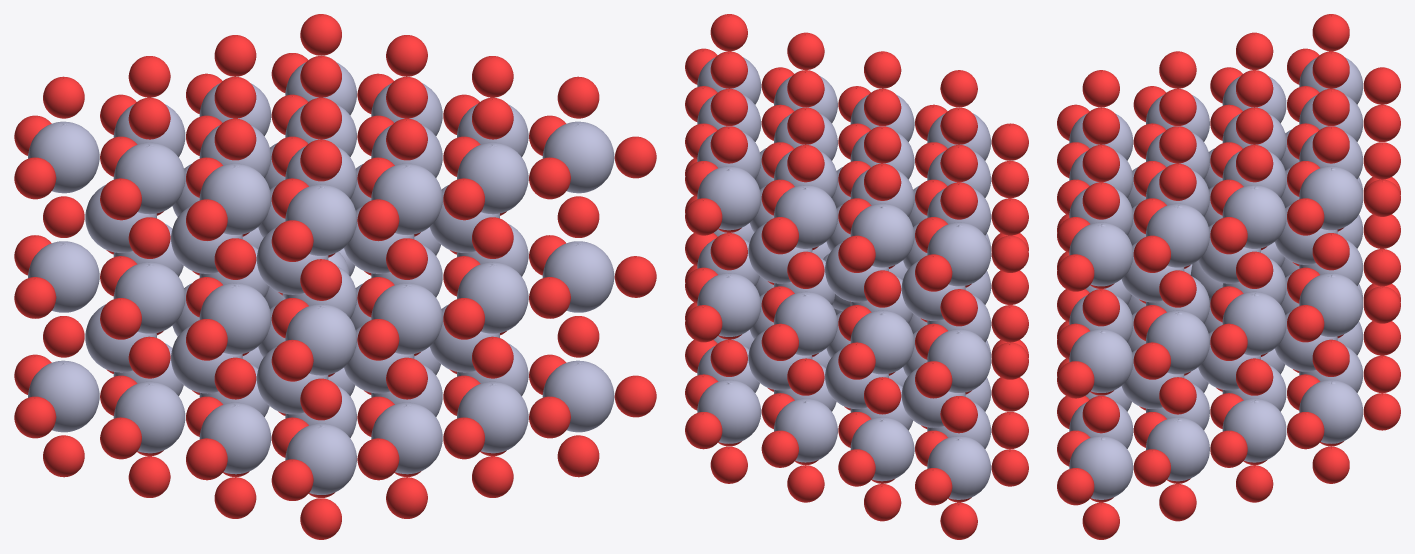
The model's file is ZnO_xyz_DAE_convert.dae.
3 renders of one model, left to right at view 1: azimuth 30°, elevation 25°; view 2: azimuth 150°, elevation 25°; view 3: azimuth 270°, elevation 25°, orthographic. The views are drawn at different scales.
Visible parts, largest first — view 1: Zinc|Ball (NURBS)_Zinc|Dupli|38.0.0.0.0.0.0.0.0, Zinc|Ball (NURBS)_Zinc|Dupli|6.0.0.0.0.0.0.0.0, Zinc|Ball (NURBS)_Zinc|Dupli|11.0.0.0.0.0.0.0.0, Zinc|Ball (NURBS)_Zinc|Dupli|2.0.0.0.0.0.0.0.0, Zinc|Ball (NURBS)_Zinc|Dupli|5.0.0.0.0.0.0.0.0, Zinc|Ball (NURBS)_Zinc|Dupli|8.0.0.0.0.0.0.0.0, Zinc|Ball (NURBS)_Zinc|Dupli|9.0.0.0.0.0.0.0.0, Zinc|Ball (NURBS)_Zinc|Dupli|12.0.0.0.0.0.0.0.0, Zinc|Ball (NURBS)_Zinc|Dupli|36.0.0.0.0.0.0.0.0, Zinc|Ball (NURBS)_Zinc|Dupli|3.0.0.0.0.0.0.0.0, Zinc|Ball (NURBS)_Zinc|Dupli|4.0.0.0.0.0.0.0.0, Zinc|Ball (NURBS)_Zinc|Dupli|0.0.0.0.0.0.0.0.0 (+125 smaller); view 2: Zinc|Ball (NURBS)_Zinc|Dupli|22.0.0.0.0.0.0.0.0, Zinc|Ball (NURBS)_Zinc|Dupli|11.0.0.0.0.0.0.0.0, Zinc|Ball (NURBS)_Zinc|Dupli|21.0.0.0.0.0.0.0.0, Zinc|Ball (NURBS)_Zinc|Dupli|23.0.0.0.0.0.0.0.0, Zinc|Ball (NURBS)_Zinc|Dupli|47.0.0.0.0.0.0.0.0, Zinc|Ball (NURBS)_Zinc|Dupli|10.0.0.0.0.0.0.0.0, Zinc|Ball (NURBS)_Zinc|Dupli|33.0.0.0.0.0.0.0.0, Zinc|Ball (NURBS)_Zinc|Dupli|34.0.0.0.0.0.0.0.0, Zinc|Ball (NURBS)_Zinc|Dupli|46.0.0.0.0.0.0.0.0, Zinc|Ball (NURBS)_Zinc|Dupli|9.0.0.0.0.0.0.0.0, Zinc|Ball (NURBS)_Zinc|Dupli|35.0.0.0.0.0.0.0.0, Zinc|Ball (NURBS)_Zinc|Dupli|45.0.0.0.0.0.0.0.0 (+104 smaller); view 3: Zinc|Ball (NURBS)_Zinc|Dupli|42.0.0.0.0.0.0.0.0, Zinc|Ball (NURBS)_Zinc|Dupli|43.0.0.0.0.0.0.0.0, Zinc|Ball (NURBS)_Zinc|Dupli|38.0.0.0.0.0.0.0.0, Zinc|Ball (NURBS)_Zinc|Dupli|40.0.0.0.0.0.0.0.0, Zinc|Ball (NURBS)_Zinc|Dupli|37.0.0.0.0.0.0.0.0, Zinc|Ball (NURBS)_Zinc|Dupli|39.0.0.0.0.0.0.0.0, Zinc|Ball (NURBS)_Zinc|Dupli|47.0.0.0.0.0.0.0.0, Zinc|Ball (NURBS)_Zinc|Dupli|36.0.0.0.0.0.0.0.0, Zinc|Ball (NURBS)_Zinc|Dupli|44.0.0.0.0.0.0.0.0, Zinc|Ball (NURBS)_Zinc|Dupli|41.0.0.0.0.0.0.0.0, Zinc|Ball (NURBS)_Zinc|Dupli|45.0.0.0.0.0.0.0.0, Zinc|Ball (NURBS)_Zinc|Dupli|46.0.0.0.0.0.0.0.0 (+105 smaller).
Part boxes in pixels (x1=…): Zinc|Ball (NURBS)_Zinc|Dupli|38.0.0.0.0.0.0.0.0: x1=542, y1=121, x2=614, y2=193; Zinc|Ball (NURBS)_Zinc|Dupli|6.0.0.0.0.0.0.0.0: x1=113, y1=381, x2=185, y2=453; Zinc|Ball (NURBS)_Zinc|Dupli|11.0.0.0.0.0.0.0.0: x1=28, y1=121, x2=99, y2=193; Zinc|Ball (NURBS)_Zinc|Dupli|2.0.0.0.0.0.0.0.0: x1=285, y1=184, x2=356, y2=255; Zinc|Ball (NURBS)_Zinc|Dupli|5.0.0.0.0.0.0.0.0: x1=199, y1=163, x2=271, y2=234; Zinc|Ball (NURBS)_Zinc|Dupli|8.0.0.0.0.0.0.0.0: x1=113, y1=142, x2=185, y2=214; Zinc|Ball (NURBS)_Zinc|Dupli|9.0.0.0.0.0.0.0.0: x1=28, y1=360, x2=99, y2=432; Zinc|Ball (NURBS)_Zinc|Dupli|12.0.0.0.0.0.0.0.0: x1=371, y1=402, x2=442, y2=474; Zinc|Ball (NURBS)_Zinc|Dupli|36.0.0.0.0.0.0.0.0: x1=542, y1=360, x2=614, y2=432; Zinc|Ball (NURBS)_Zinc|Dupli|3.0.0.0.0.0.0.0.0: x1=199, y1=402, x2=271, y2=474; Zinc|Ball (NURBS)_Zinc|Dupli|4.0.0.0.0.0.0.0.0: x1=199, y1=283, x2=271, y2=354; Zinc|Ball (NURBS)_Zinc|Dupli|0.0.0.0.0.0.0.0.0: x1=285, y1=423, x2=356, y2=494; Zinc|Ball (NURBS)_Zinc|Dupli|22.0.0.0.0.0.0.0.0: x1=850, y1=310, x2=914, y2=374; Zinc|Ball (NURBS)_Zinc|Dupli|11.0.0.0.0.0.0.0.0: x1=927, y1=222, x2=991, y2=286; Zinc|Ball (NURBS)_Zinc|Dupli|21.0.0.0.0.0.0.0.0: x1=850, y1=417, x2=914, y2=481; Zinc|Ball (NURBS)_Zinc|Dupli|23.0.0.0.0.0.0.0.0: x1=850, y1=203, x2=914, y2=267; Zinc|Ball (NURBS)_Zinc|Dupli|47.0.0.0.0.0.0.0.0: x1=697, y1=166, x2=761, y2=230; Zinc|Ball (NURBS)_Zinc|Dupli|10.0.0.0.0.0.0.0.0: x1=927, y1=329, x2=991, y2=392; Zinc|Ball (NURBS)_Zinc|Dupli|33.0.0.0.0.0.0.0.0: x1=774, y1=398, x2=837, y2=462; Zinc|Ball (NURBS)_Zinc|Dupli|34.0.0.0.0.0.0.0.0: x1=774, y1=291, x2=837, y2=355; Zinc|Ball (NURBS)_Zinc|Dupli|46.0.0.0.0.0.0.0.0: x1=697, y1=273, x2=761, y2=336; Zinc|Ball (NURBS)_Zinc|Dupli|9.0.0.0.0.0.0.0.0: x1=927, y1=436, x2=991, y2=499; Zinc|Ball (NURBS)_Zinc|Dupli|35.0.0.0.0.0.0.0.0: x1=774, y1=185, x2=837, y2=248; Zinc|Ball (NURBS)_Zinc|Dupli|45.0.0.0.0.0.0.0.0: x1=697, y1=380, x2=761, y2=443; Zinc|Ball (NURBS)_Zinc|Dupli|42.0.0.0.0.0.0.0.0: x1=1222, y1=398, x2=1286, y2=462; Zinc|Ball (NURBS)_Zinc|Dupli|43.0.0.0.0.0.0.0.0: x1=1222, y1=291, x2=1286, y2=355; Zinc|Ball (NURBS)_Zinc|Dupli|38.0.0.0.0.0.0.0.0: x1=1069, y1=222, x2=1133, y2=286; Zinc|Ball (NURBS)_Zinc|Dupli|40.0.0.0.0.0.0.0.0: x1=1146, y1=310, x2=1209, y2=374; Zinc|Ball (NURBS)_Zinc|Dupli|37.0.0.0.0.0.0.0.0: x1=1069, y1=329, x2=1133, y2=392; Zinc|Ball (NURBS)_Zinc|Dupli|39.0.0.0.0.0.0.0.0: x1=1146, y1=417, x2=1209, y2=481; Zinc|Ball (NURBS)_Zinc|Dupli|47.0.0.0.0.0.0.0.0: x1=1299, y1=166, x2=1362, y2=230; Zinc|Ball (NURBS)_Zinc|Dupli|36.0.0.0.0.0.0.0.0: x1=1069, y1=436, x2=1133, y2=499; Zinc|Ball (NURBS)_Zinc|Dupli|44.0.0.0.0.0.0.0.0: x1=1222, y1=185, x2=1286, y2=248; Zinc|Ball (NURBS)_Zinc|Dupli|41.0.0.0.0.0.0.0.0: x1=1146, y1=203, x2=1209, y2=267; Zinc|Ball (NURBS)_Zinc|Dupli|45.0.0.0.0.0.0.0.0: x1=1299, y1=380, x2=1362, y2=443; Zinc|Ball (NURBS)_Zinc|Dupli|46.0.0.0.0.0.0.0.0: x1=1299, y1=273, x2=1362, y2=336.
Size of the model in its own units: 20.46 by 13.42 by 15.26.
